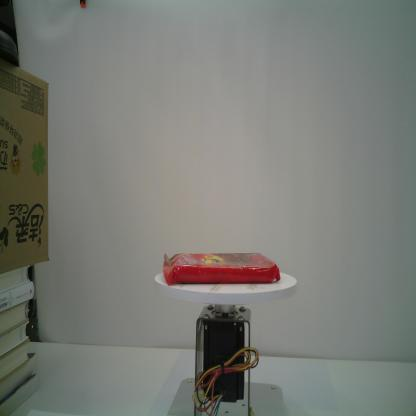Dessert: (163, 252, 281, 286)
